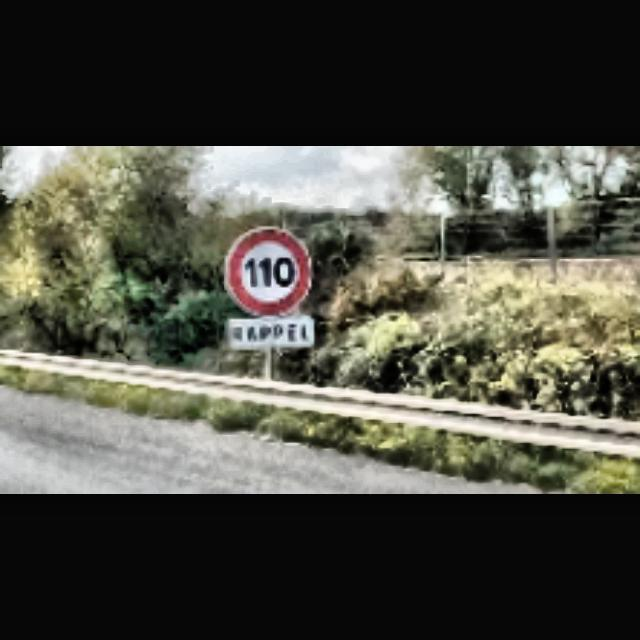speed_110: (224, 227, 314, 319)
